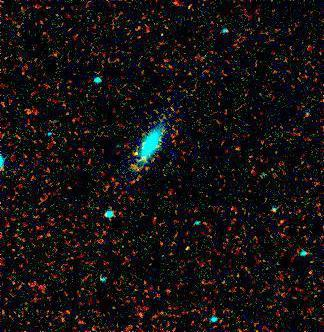star: (120, 139, 150, 169)
